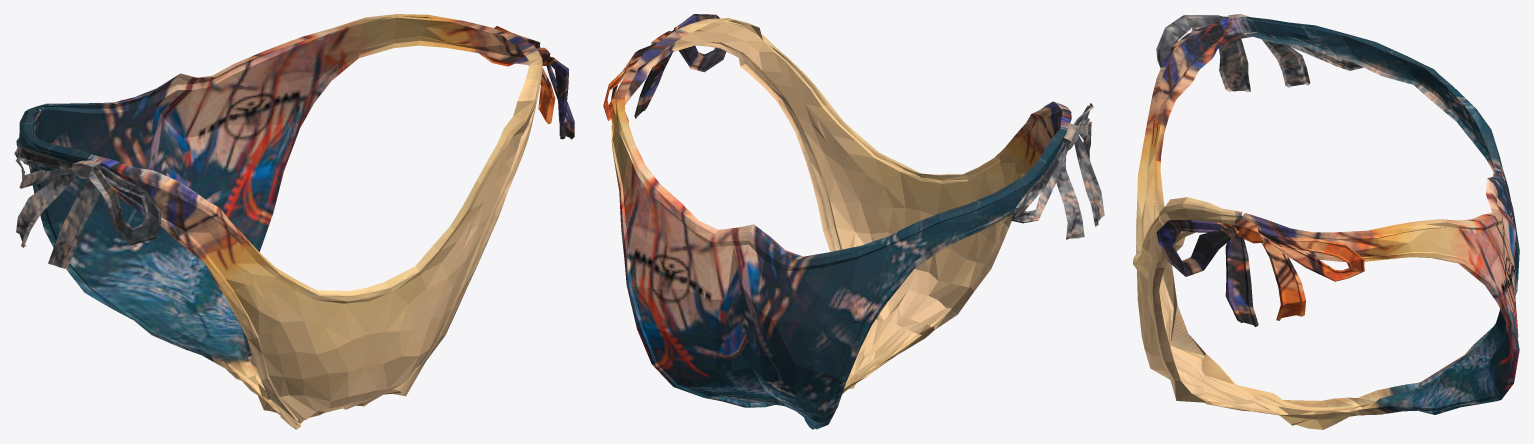
The model's file is mhw_punkduck_bikini02_slip.glb.
The picture shows the model from 3 angles, left to right: view 1: azimuth 30°, elevation 25°; view 2: azimuth 150°, elevation 25°; view 3: azimuth 270°, elevation 25°; orthographic projection. The views are drawn at different scales.
Parts seen in each view (by area): view 1: mhw_punkduck_bikini02_slip; view 2: mhw_punkduck_bikini02_slip; view 3: mhw_punkduck_bikini02_slip.
Part boxes in pixels (box(x1,y1,x2,y2)): mhw_punkduck_bikini02_slip: box(14, 14, 574, 429); mhw_punkduck_bikini02_slip: box(603, 14, 1104, 429); mhw_punkduck_bikini02_slip: box(1133, 14, 1519, 429).
Size of the model in its own units: 0.3544 by 0.2175 by 0.241.
1 material, 1 textured.
